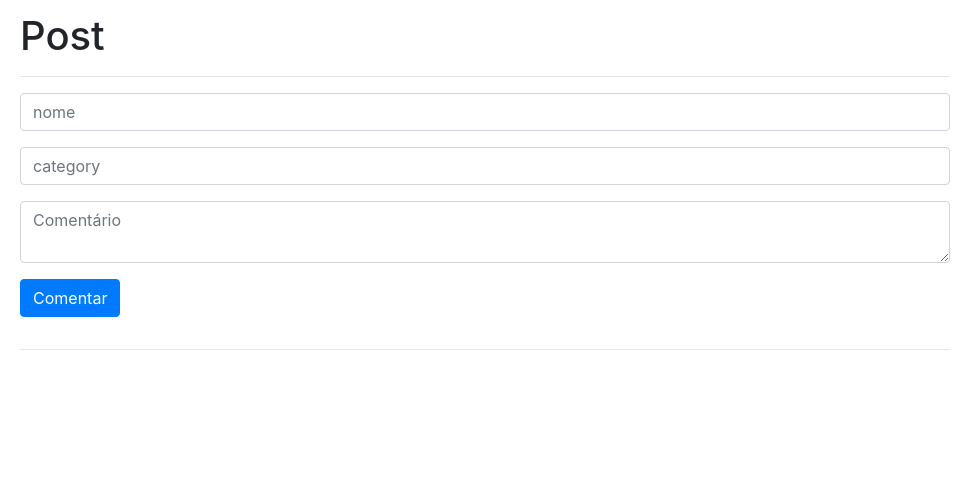
Test: Vue App  Comment › Usuário realizando um comentários
Type "Lucas" into the field named "name" at (485, 112), box [20,93,950,131]
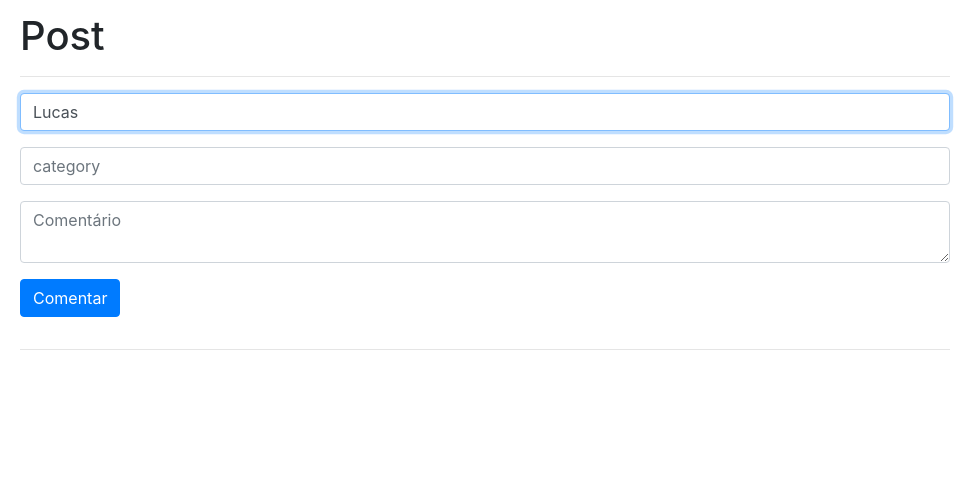
Type "EDM" into the field named "category" at (485, 166), box [20,147,950,185]
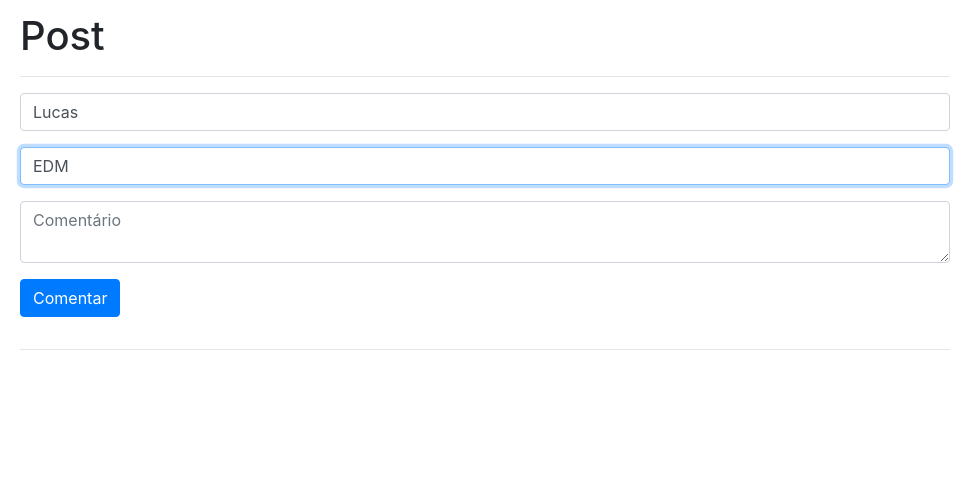
Type "Saudades do que nunca vivemos" into the text box named "message" at (485, 232), box [20,201,950,263]
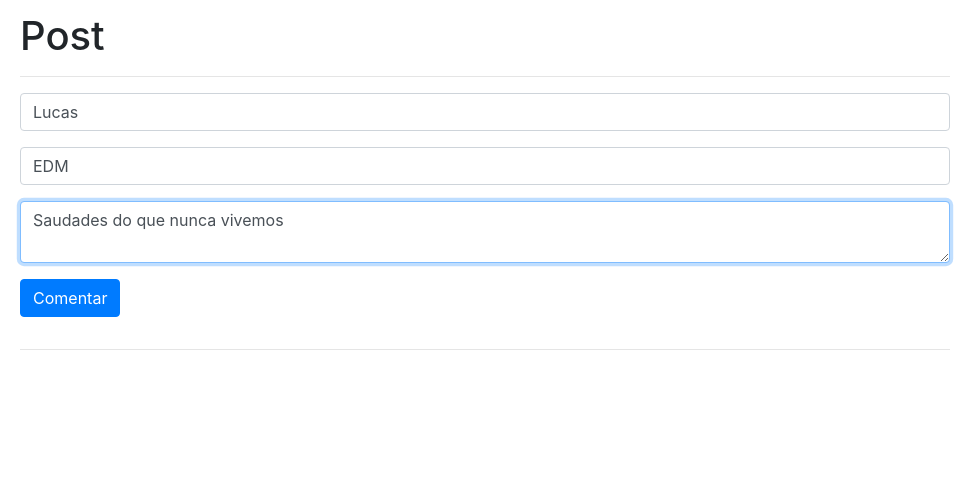
Click the button "Comentar" at (70, 298), box [20,279,120,317]
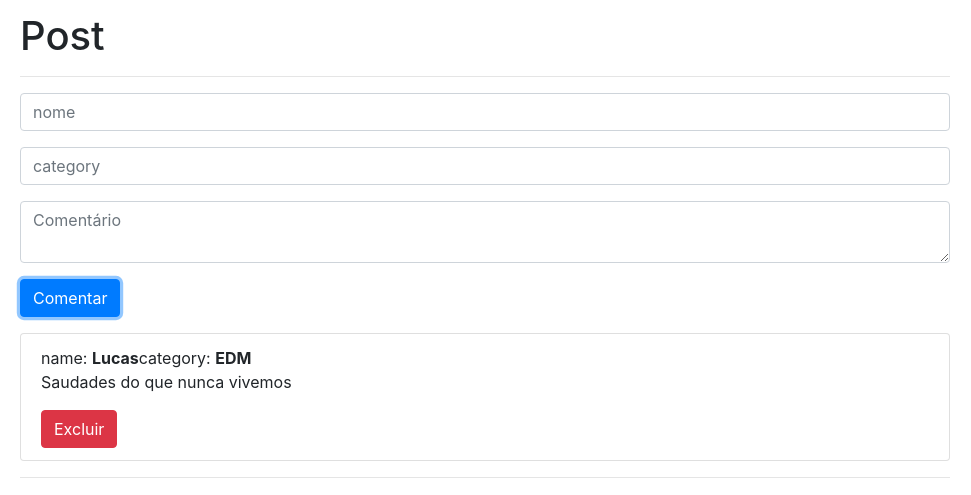
Now the number of elements with class "list-group-item" is 1, box [20,333,950,461]
